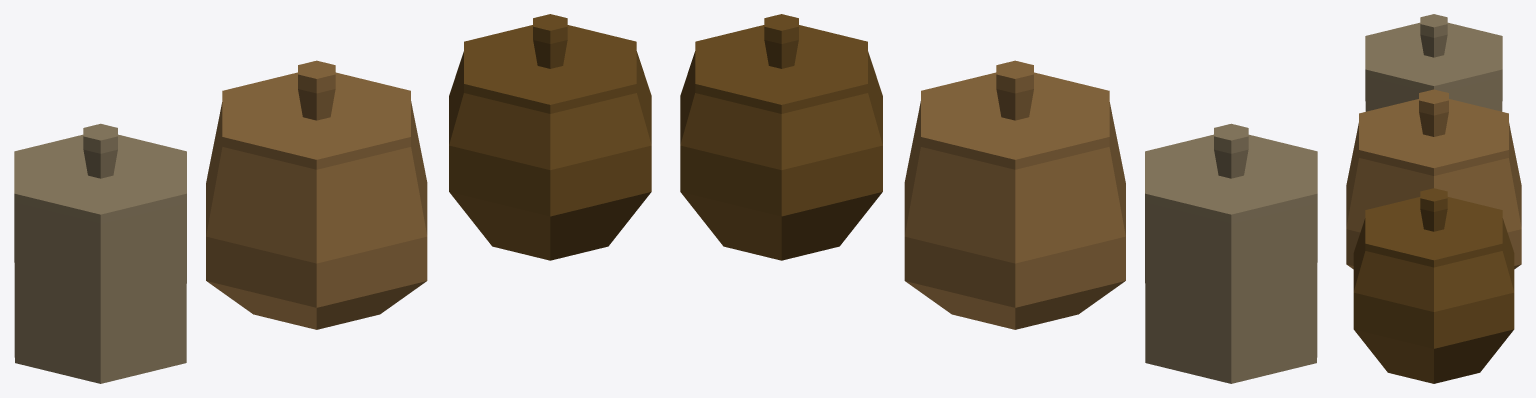
File: Potes de Madeira.fbx
3 views of the same model, side by side, from view 1: azimuth 30°, elevation 25°; view 2: azimuth 150°, elevation 25°; view 3: azimuth 270°, elevation 25° (orthographic). The views are drawn at different scales.
Parts seen in each view (by area): view 1: pCylinder40, pCylinder41, pCylinder42; view 2: pCylinder40, pCylinder41, pCylinder42; view 3: pCylinder41, pCylinder40, pCylinder42.
Boxes of the visible parts, x1,y1,x2,y2 form: pCylinder40: [206, 60, 427, 329]; pCylinder41: [449, 14, 651, 260]; pCylinder42: [14, 123, 186, 383]; pCylinder40: [904, 60, 1125, 329]; pCylinder41: [680, 14, 882, 260]; pCylinder42: [1145, 123, 1317, 383]; pCylinder41: [1353, 188, 1514, 383]; pCylinder40: [1346, 89, 1521, 269]; pCylinder42: [1365, 14, 1502, 111].
Bounding box in the file's own units: 0.5767 × 0.1981 × 0.1733.
